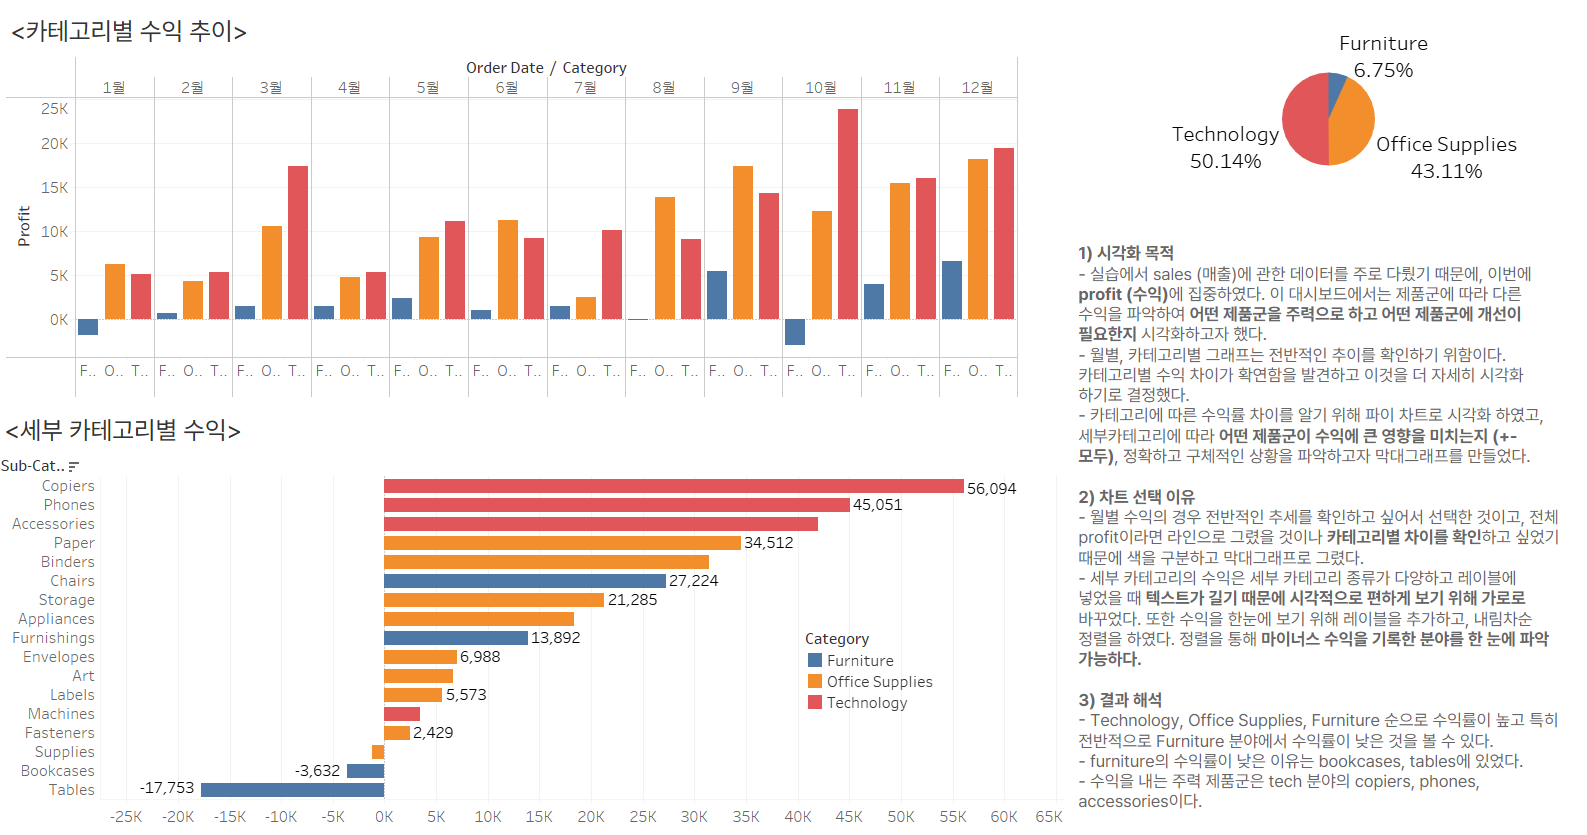

The dashboard page shown, as its layout file describes it:
{"tool":"tableau","page":{"name":"대시보드 1-1","canvas":[1600,900],"ordinal":0},"visuals":[{"type":"worksheet","title":"월별 카테고리별 profit","mark":"Automatic","rows":["Profit"],"cols":["Order Date","Category"],"box":[9.4,14.1,1013.2,385.6]},{"type":"worksheet","title":"파이","mark":"Pie","box":[1114,28,435,186]},{"type":"text","box":[1078,223,487,612]},{"type":"legend","title":"세부 카테고리별 profit","param":"[Sample - Superstore].[none:Category:nk]","box":[808.2,630.5,190.9,116]}]}

Visuals, with their boxes on the page's 1600x900 design canvas (x1, y1, x2, y2). These are canvas units, not pixel positions in the 1587x835 screenshot, which may show the page scaled, cropped or inside an application window:
"월별 카테고리별 profit" worksheet: (9,14,1023,400)
"파이" worksheet (Pie marks): (1114,28,1549,214)
text: (1078,223,1565,835)
"세부 카테고리별 profit" legend: (808,630,999,746)
